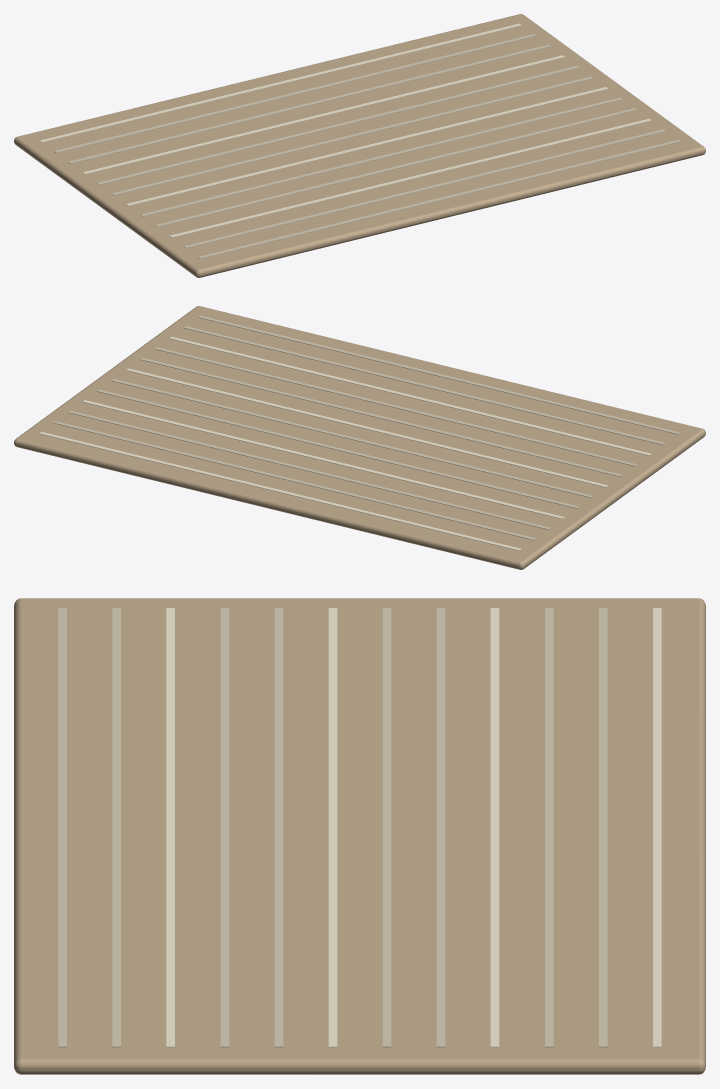
Rendered from family-entry-mat-v1.glb.
3 views of the same model, one above another, from view 1: azimuth 30°, elevation 25°; view 2: azimuth 150°, elevation 25°; view 3: azimuth 270°, elevation 25° (orthographic). The views are drawn at different scales.
Parts seen in each view (by area): view 1: Woven doormat, Row of weave (×12); view 2: Woven doormat, Row of weave (×12); view 3: Woven doormat, Row of weave (×12).
Part boxes in pixels (x1=…): Woven doormat: x1=14, y1=14, x2=705, y2=277; Row of weave (×12): x1=39, y1=23, x2=680, y2=258; Woven doormat: x1=14, y1=306, x2=705, y2=569; Row of weave (×12): x1=39, y1=315, x2=680, y2=550; Woven doormat: x1=14, y1=598, x2=705, y2=1074; Row of weave (×12): x1=58, y1=608, x2=661, y2=1047.
Size of the model in its own units: 1.02 by 0.0175 by 0.64.
